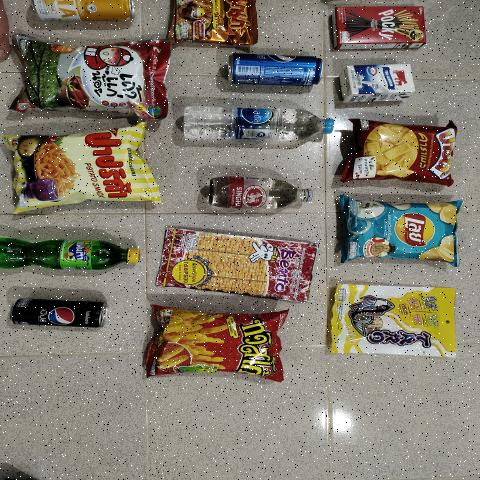bento_red: (156, 228, 308, 297)
crystal: (178, 104, 334, 146)
fanta_green: (0, 240, 141, 276)
lay_blue: (348, 207, 453, 259)
mama: (172, 0, 258, 43)
paprika: (12, 132, 148, 202)
party_red: (344, 125, 460, 184)
pepsi_black: (12, 299, 107, 330)
pepsi_blue: (222, 57, 322, 87)
pokki: (335, 10, 427, 50)
singha_soda: (201, 176, 313, 212)
taokaenoi: (23, 46, 162, 118)
taro_yellow: (337, 287, 455, 356)
thai_denmark: (329, 68, 418, 98)
twisco: (153, 314, 280, 378)
